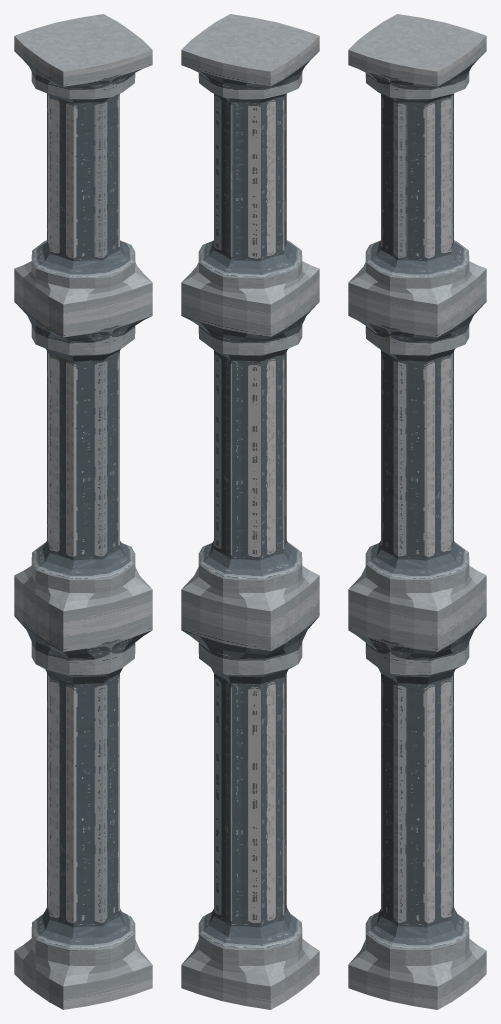
Rendered from pillar.fbx.
3 views of the same model, side by side, from view 1: azimuth 30°, elevation 25°; view 2: azimuth 150°, elevation 25°; view 3: azimuth 330°, elevation 25° (orthographic).
Parts seen in each view (by area): view 1: Cube.017; view 2: Cube.017; view 3: Cube.017.
Part boxes in pixels (box(x1,y1,x2,y2)): Cube.017: box(14, 14, 152, 1009); Cube.017: box(181, 14, 319, 1009); Cube.017: box(348, 14, 486, 1009).
Bounding box in the file's own units: 281 × 2638 × 281.
